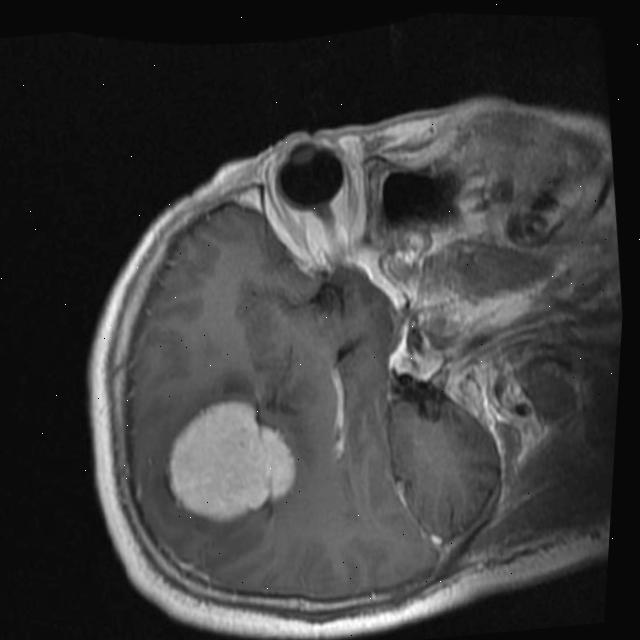Meningioma: (157, 388, 307, 531)
